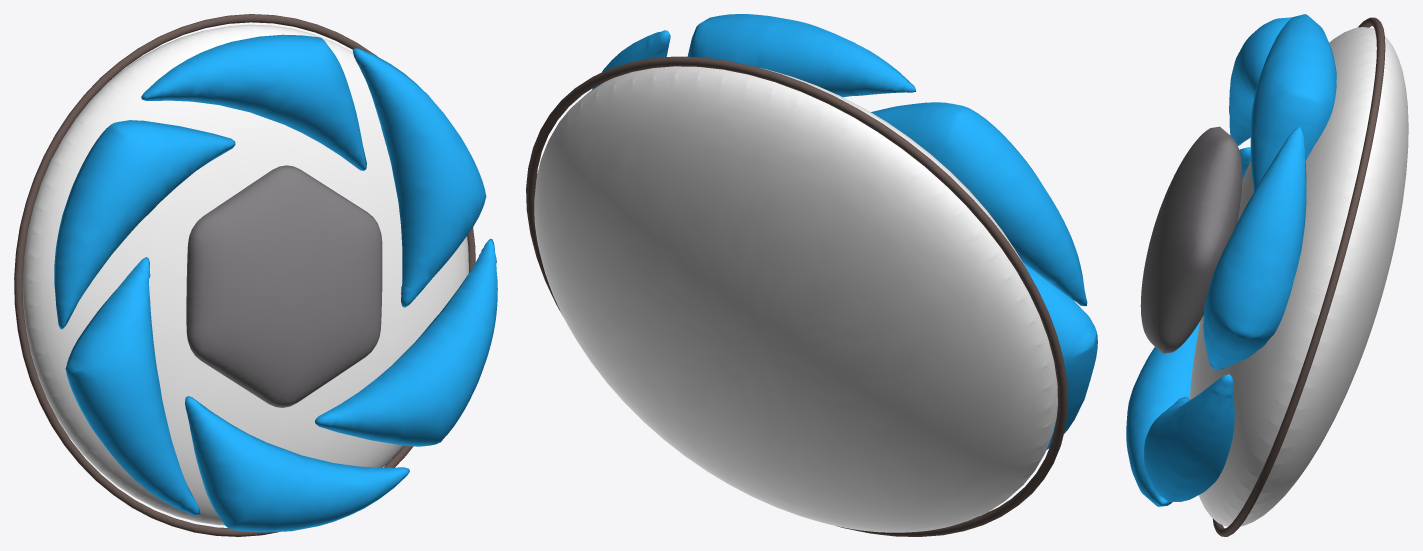
File: keyshotmodel.glb
3 renders of one model, left to right at view 1: azimuth 30°, elevation 25°; view 2: azimuth 150°, elevation 25°; view 3: azimuth 270°, elevation 25°, orthographic. The views are drawn at different scales.
Parts seen in each view (by area): view 1: vector (×4); view 2: vector (×3); view 3: vector (×4).
Boxes of the visible parts, bbox=[...] form: vector (×4): bbox=[14, 14, 497, 536]; vector (×3): bbox=[526, 14, 1097, 536]; vector (×4): bbox=[1126, 14, 1408, 536].
Bounding box in the file's own units: 25.04 × 24.1 × 13.06.
